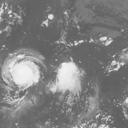cyclone: (1, 48, 46, 91), (52, 61, 82, 95)
